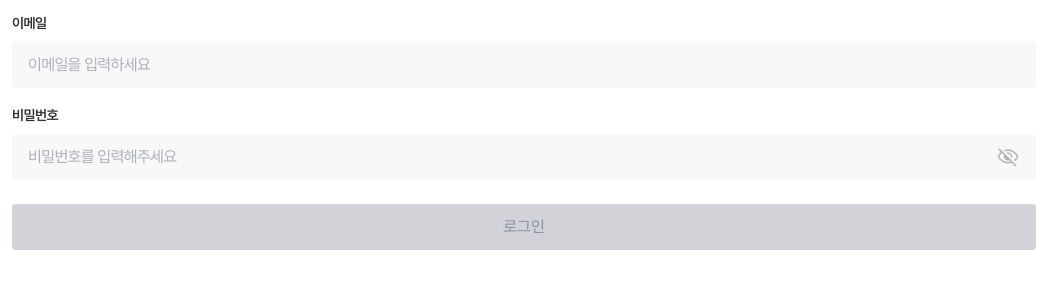
SigninForm › 이메일을 잘못 입력하면 "이메일 형식으로 입력해주세요" 라는 에러 메시지 확인
In the field with placeholder "이메일을 입력하세요": coordinates (524, 65) [12,42,1036,88], type "test"
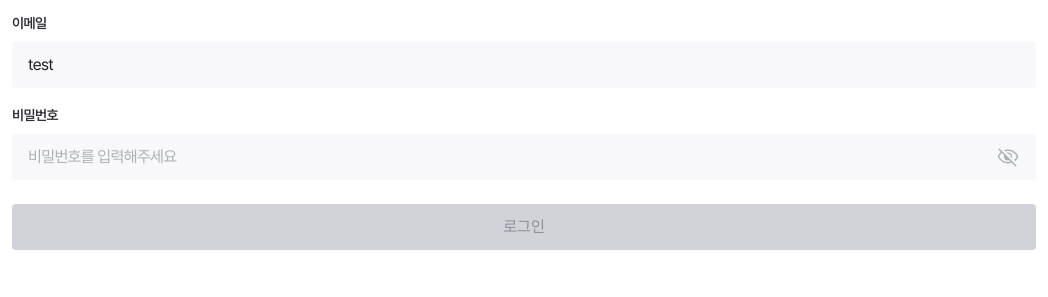
In the password field with placeholder "비밀번호를 입력해주세요": coordinates (524, 157) [12,134,1036,180], type "password123!"
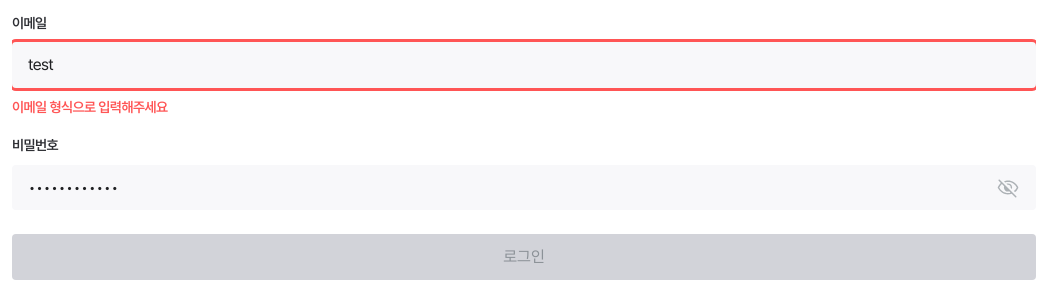
Expected: the text "이메일 형식으로 입력해주세요" is shown, [12,99,168,115]
